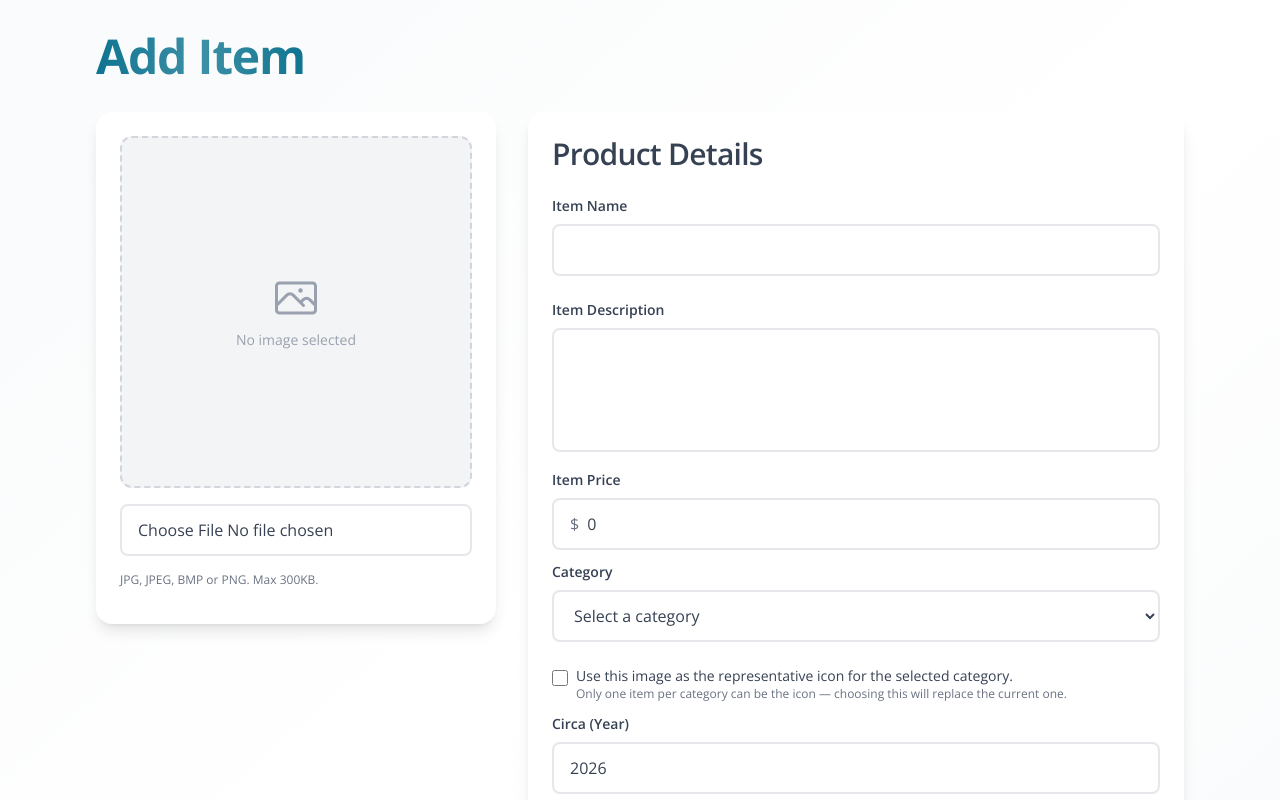
Test: CreateItemPage.vue › initial render › reflects the selected category in the "use as icon" label
Select "Plates" in the dropdown with id "category" at (856, 616), box [552,590,1160,642]
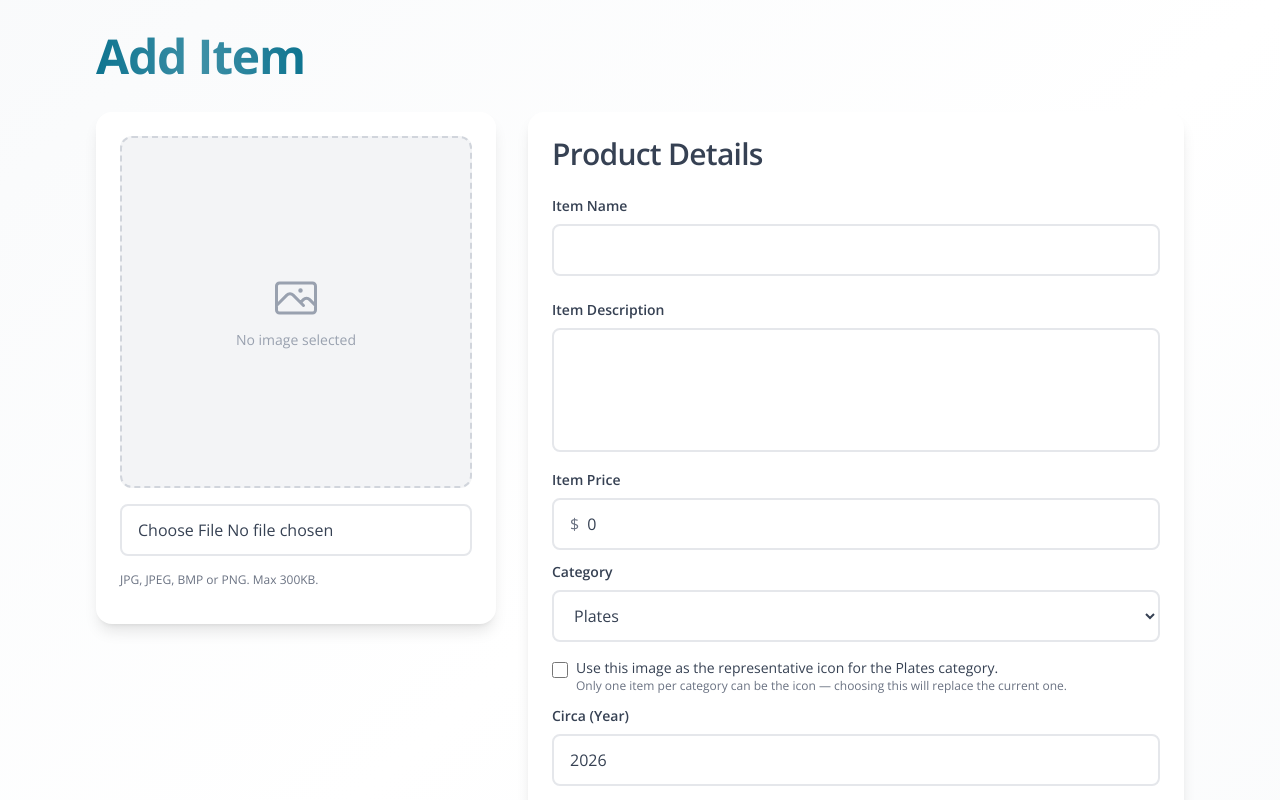
Expected: the text "representative icon for the" is shown, [576,658,895,677]
Result: the text "Plates" is shown at [895,658,935,677]
